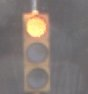Red: (18, 7, 53, 94)
